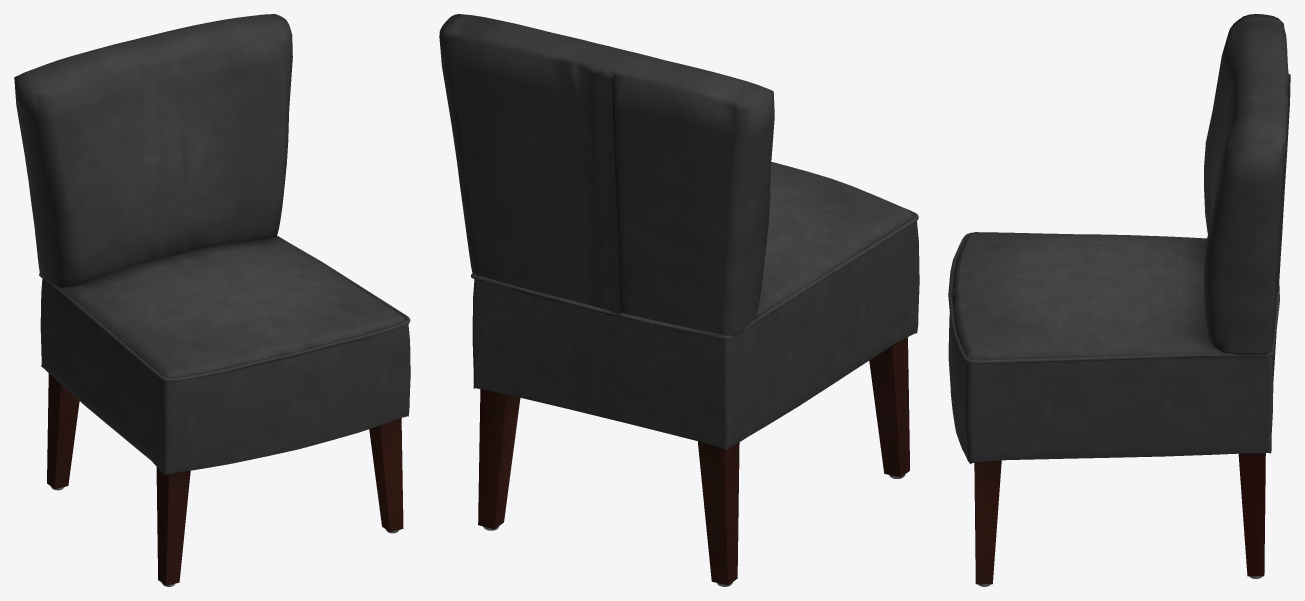
Rendered from office_chair_B072FVHSZQ.glb.
3 renders of one model, left to right at view 1: azimuth 30°, elevation 25°; view 2: azimuth 150°, elevation 25°; view 3: azimuth 270°, elevation 25°, orthographic. The views are drawn at different scales.
Parts seen in each view (by area): view 1: RootNode; view 2: RootNode; view 3: RootNode.
Part boxes in pixels (x1,y1,x2,y2): RootNode: [14, 14, 410, 586]; RootNode: [439, 14, 919, 586]; RootNode: [948, 14, 1290, 586].
Size of the model in its own units: 0.5215 by 0.8055 by 0.5541.
1 material, 1 textured.
